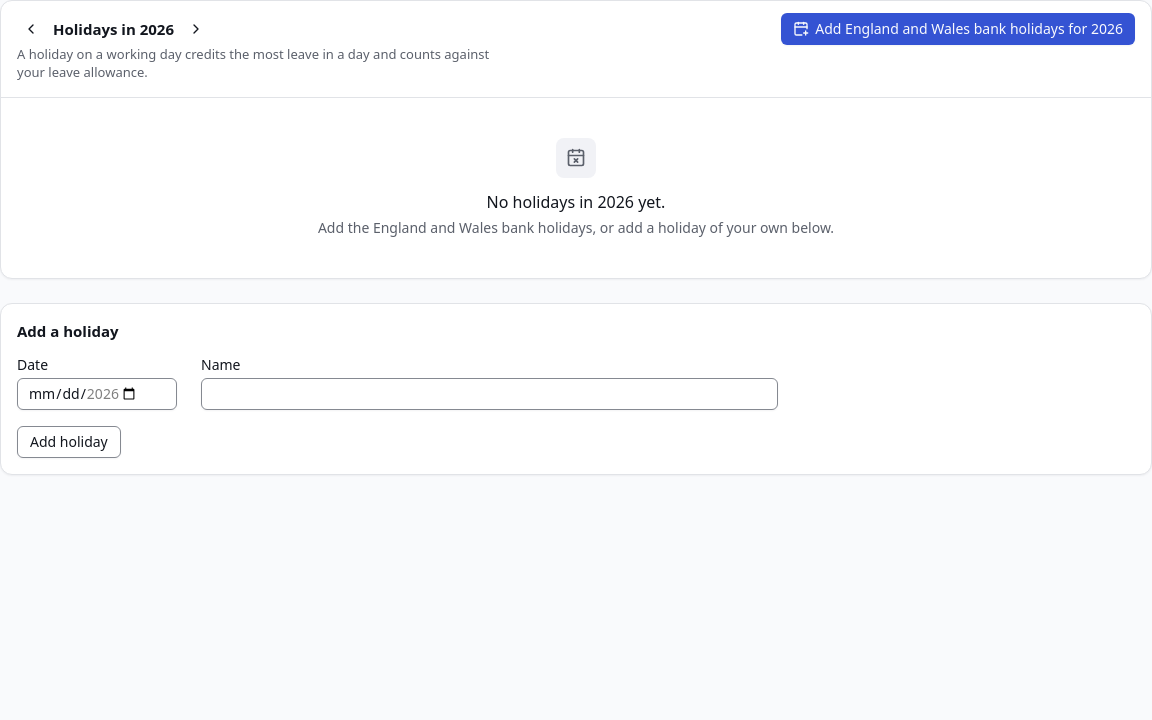
it: HolidaysTab › adds a holiday by hand, and explains a date already taken
Type "2026-06-01" into the date field labelled "Date".
click(97, 394); type("2026-06-01")  # box [17,378,177,410]
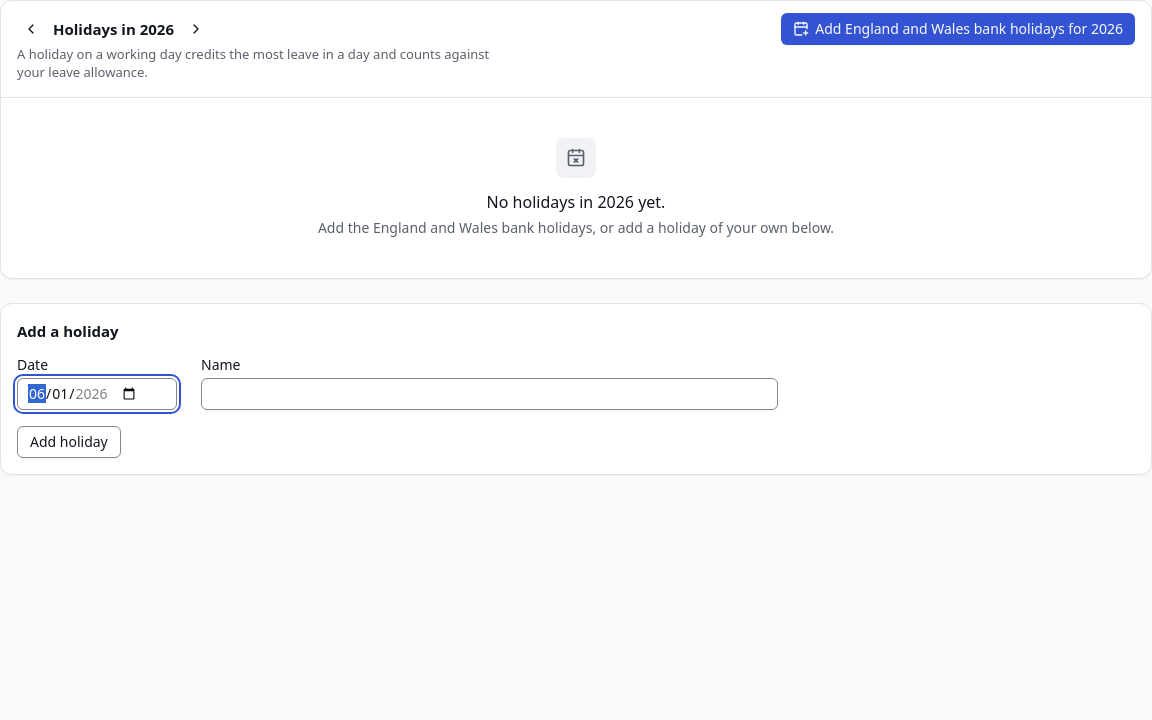
Type "  Company day " into the field labelled "Name".
click(489, 394); type("  Company day ")  # box [201,378,778,410]
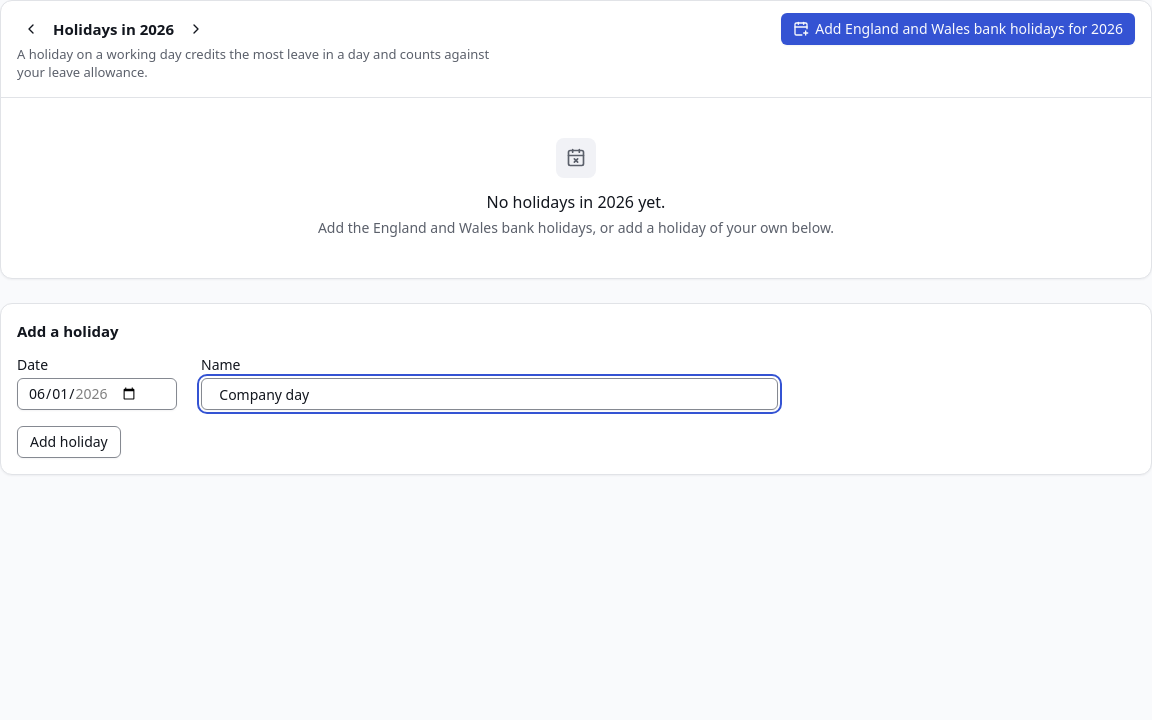
Click the button "Add holiday".
click(69, 442)  # box [17,426,121,458]
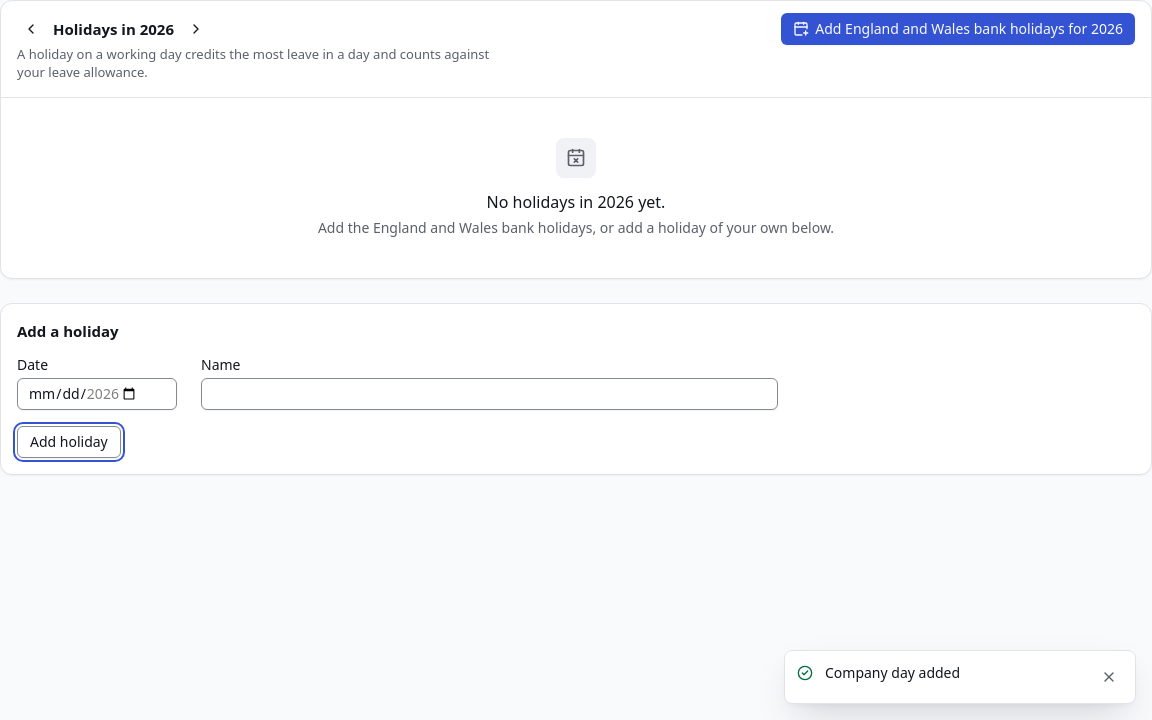
Expected: the text "Company day added" is shown, [825,663,960,682]
Type "2026-06-01" into the date field labelled "Date".
click(97, 394); type("2026-06-01")  # box [17,378,177,410]
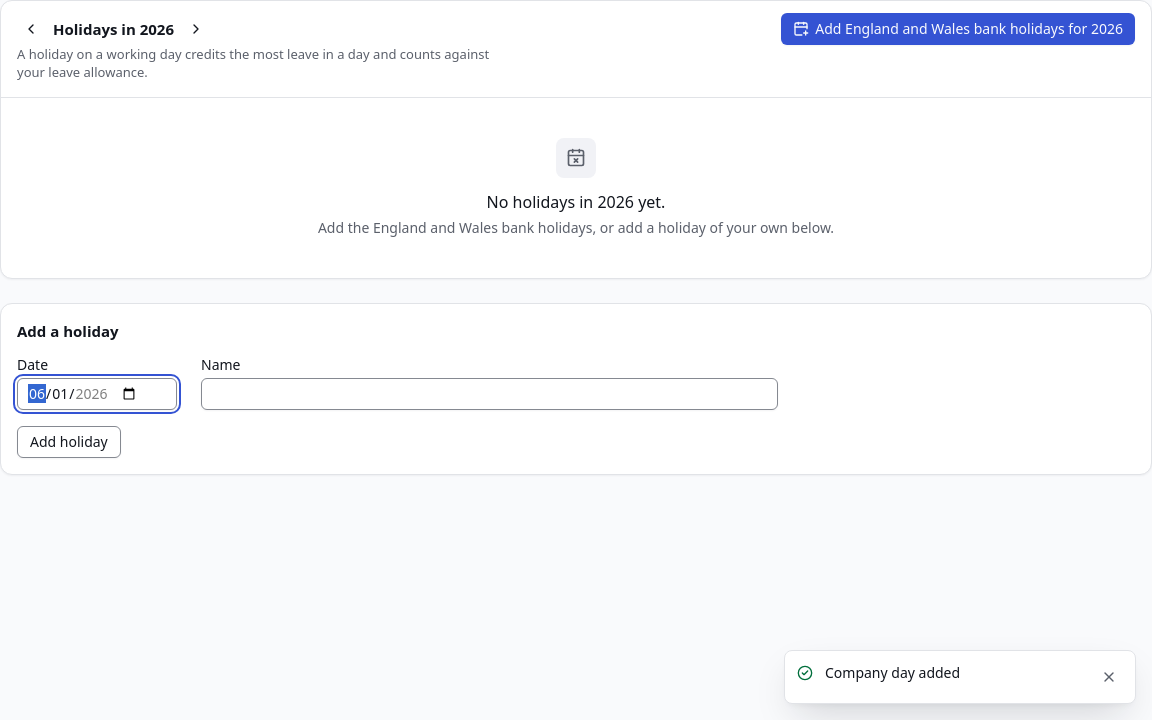
Type "Again" into the field labelled "Name".
click(489, 394); type("Again")  # box [201,378,778,410]
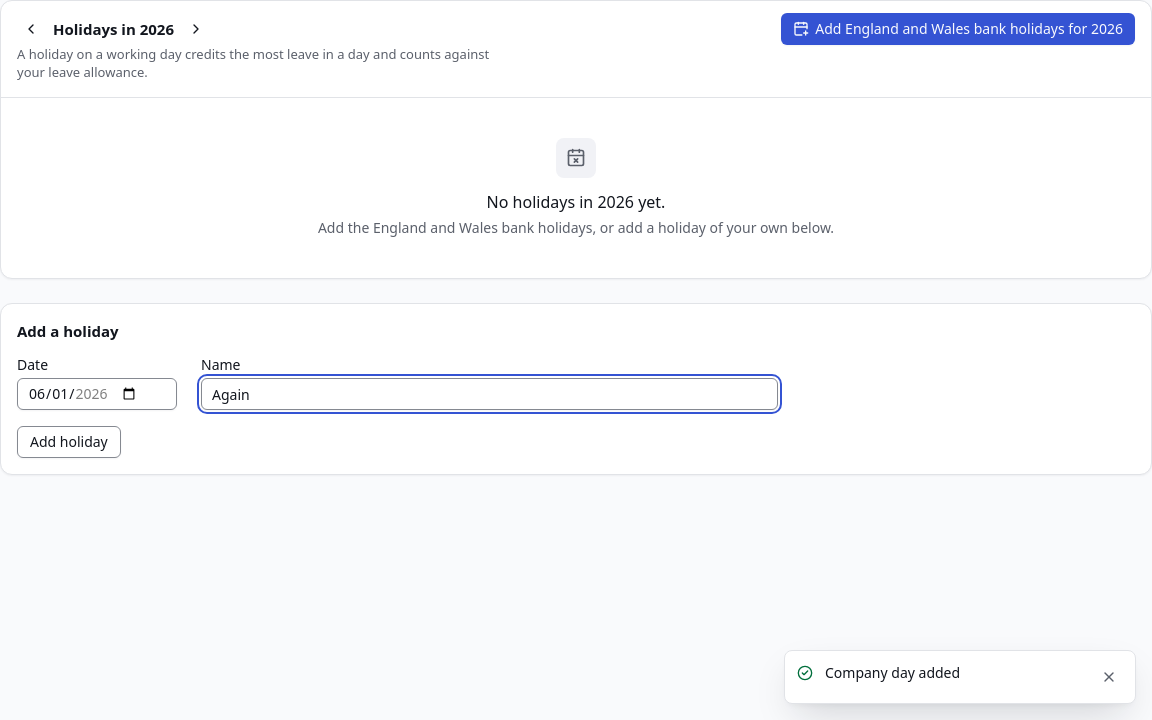
Click the button "Add holiday".
click(69, 442)  # box [17,426,121,458]
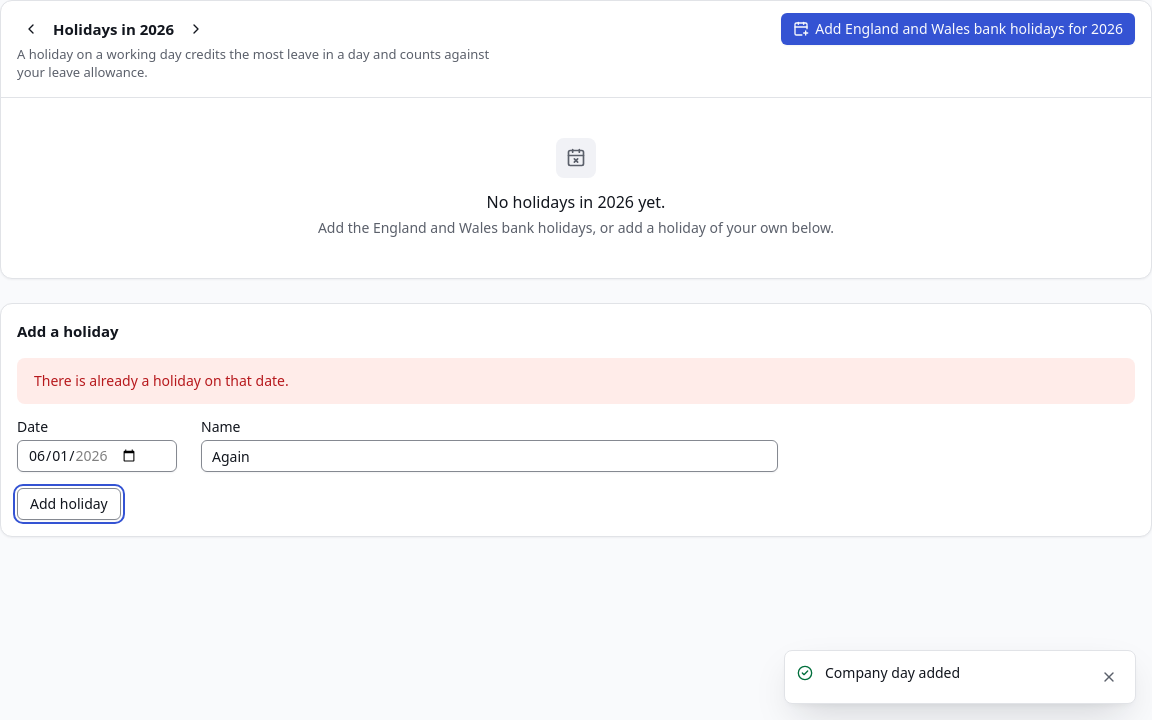
Expected: the message reads "There is already a holiday on that date.", [34,371,289,390]
